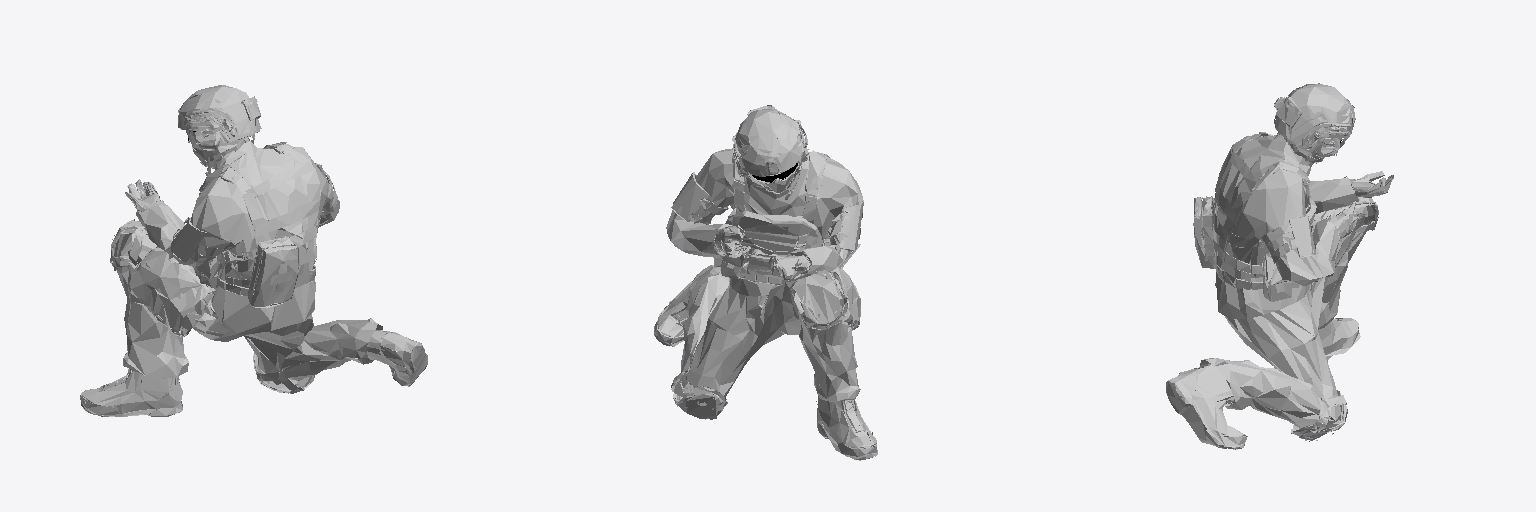
File: army_man.obj
The picture shows the model from 3 angles: view 1: azimuth 30°, elevation 25°; view 2: azimuth 150°, elevation 25°; view 3: azimuth 270°, elevation 25°; orthographic projection.
Parts seen in each view (by area): view 1: A_1_1.002; view 2: A_1_1.002; view 3: A_1_1.002.
Part boxes in pixels (x1,y1,x2,y2): A_1_1.002: (80,85,427,416); A_1_1.002: (654,105,877,460); A_1_1.002: (1166,83,1393,449).
Size of the model in its own units: 2.95 by 3.22 by 2.08.